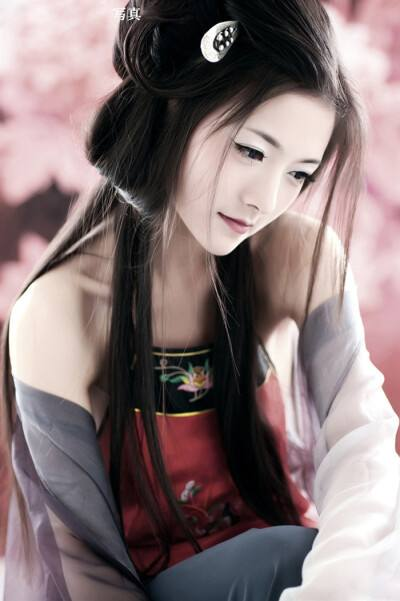person: (45, 19, 369, 501)
